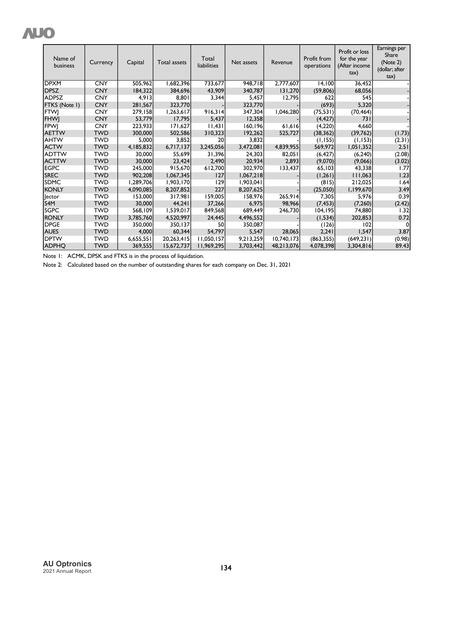box: (41, 41, 413, 271)
